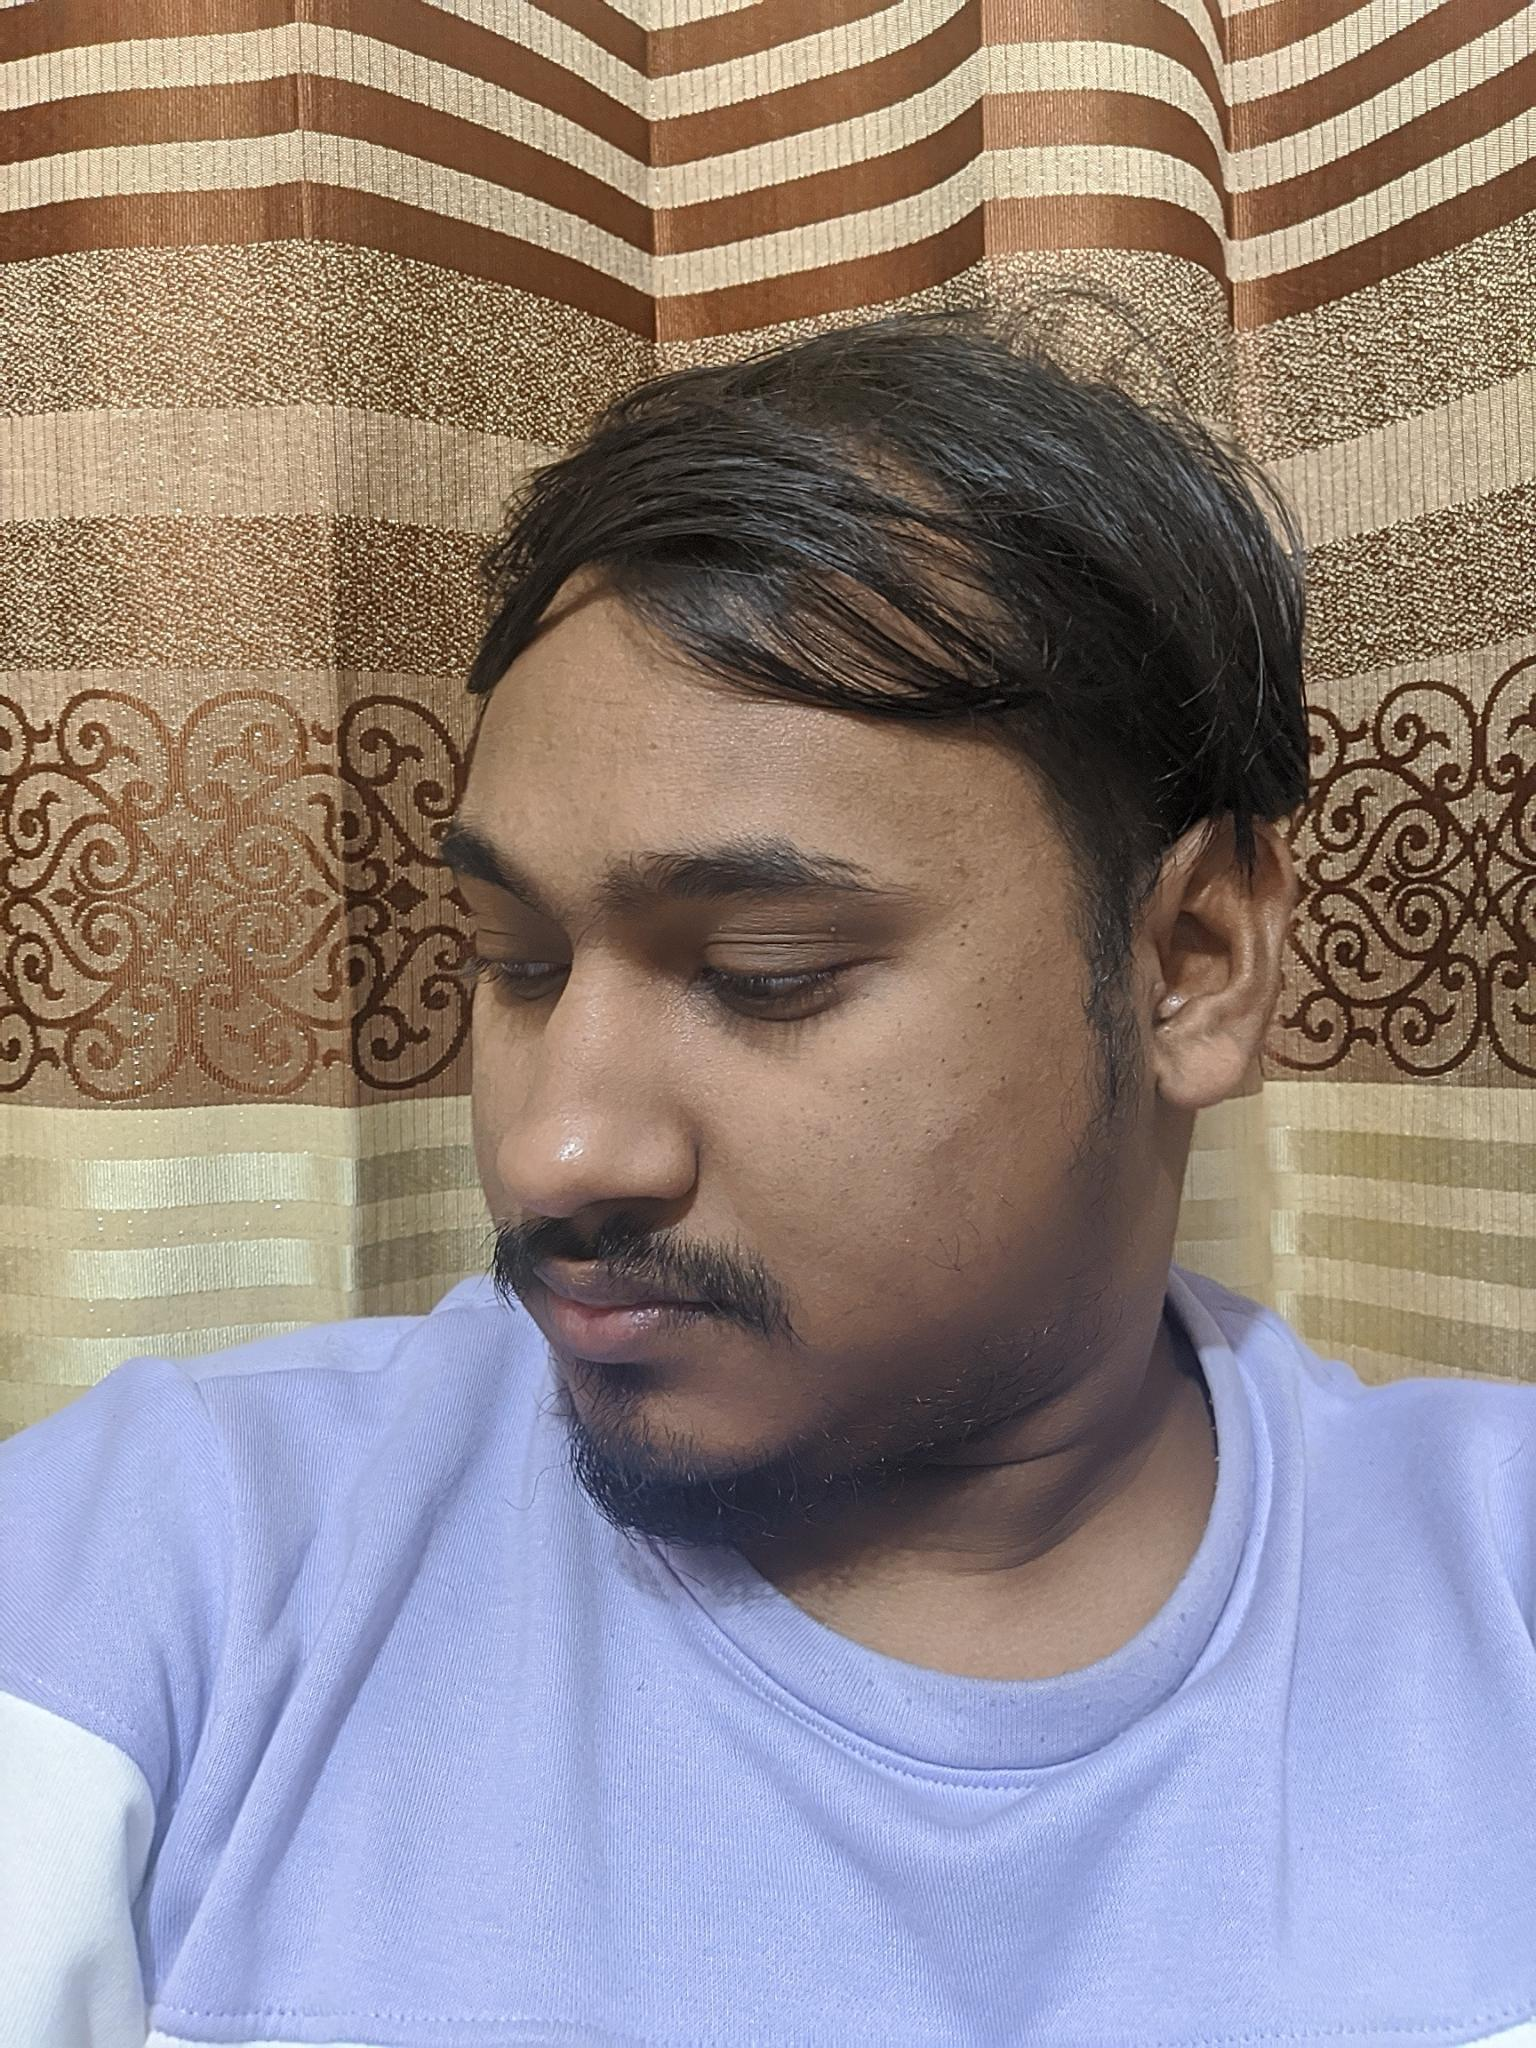Neutral: (339, 726, 984, 1546)
